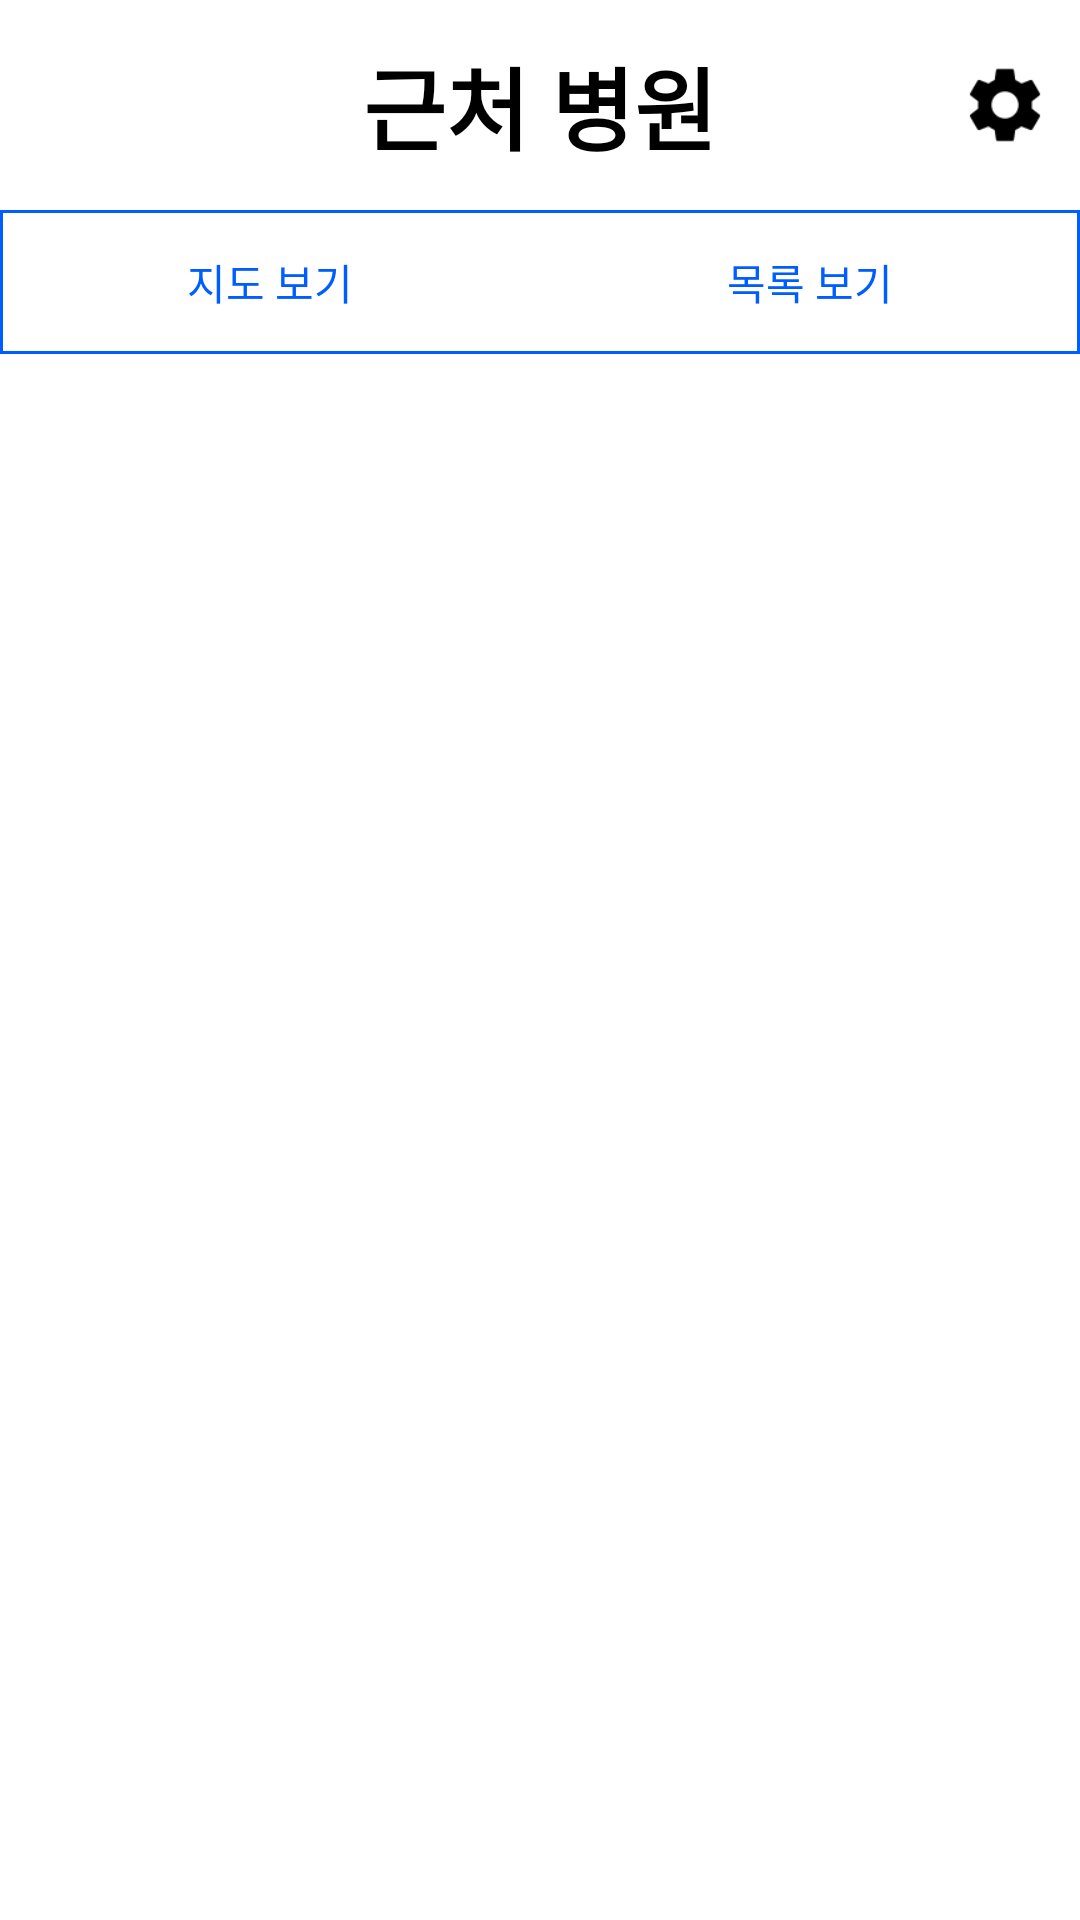

Icons on this 1080×1920 Android screen, each with the point to tap as (x=x, y=y):
setting: (x=1005, y=105)
